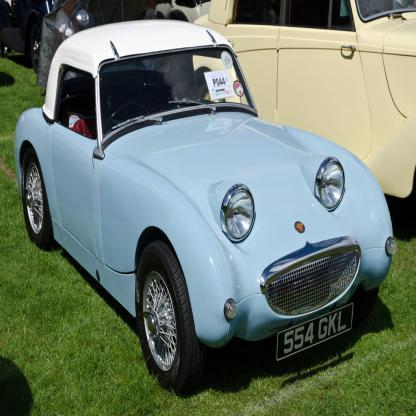car: (17, 22, 398, 397), (190, 1, 416, 226), (155, 2, 211, 28)
